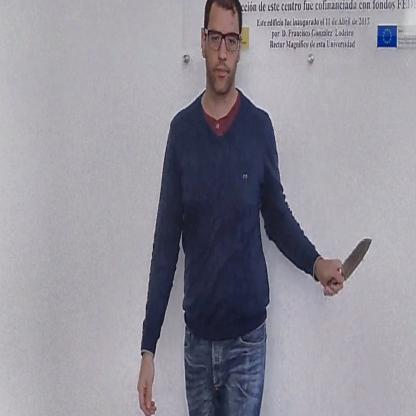knife: (321, 231, 376, 300)
